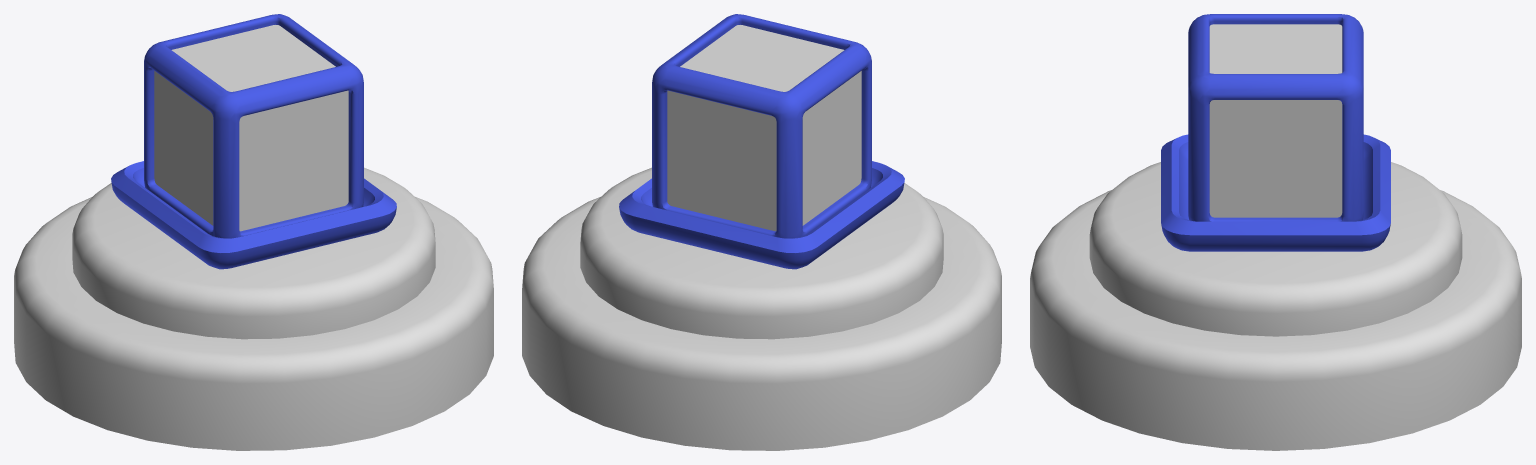
File: dice_and_platfom (1).fbx
3 views of the same model, side by side, from view 1: azimuth 30°, elevation 25°; view 2: azimuth 150°, elevation 25°; view 3: azimuth 270°, elevation 25° (orthographic). The views are drawn at different scales.
Parts seen in each view (by area): view 1: dice_platform, dice; view 2: dice_platform, dice; view 3: dice_platform, dice.
Boxes of the visible parts, <box> form: dice_platform: <box>14,161,493,450</box>; dice: <box>144,14,363,238</box>; dice_platform: <box>522,161,1001,450</box>; dice: <box>652,14,871,238</box>; dice_platform: <box>1030,134,1521,450</box>; dice: <box>1188,14,1363,221</box>.
Size of the model in its own units: 2 by 1.36 by 2.
